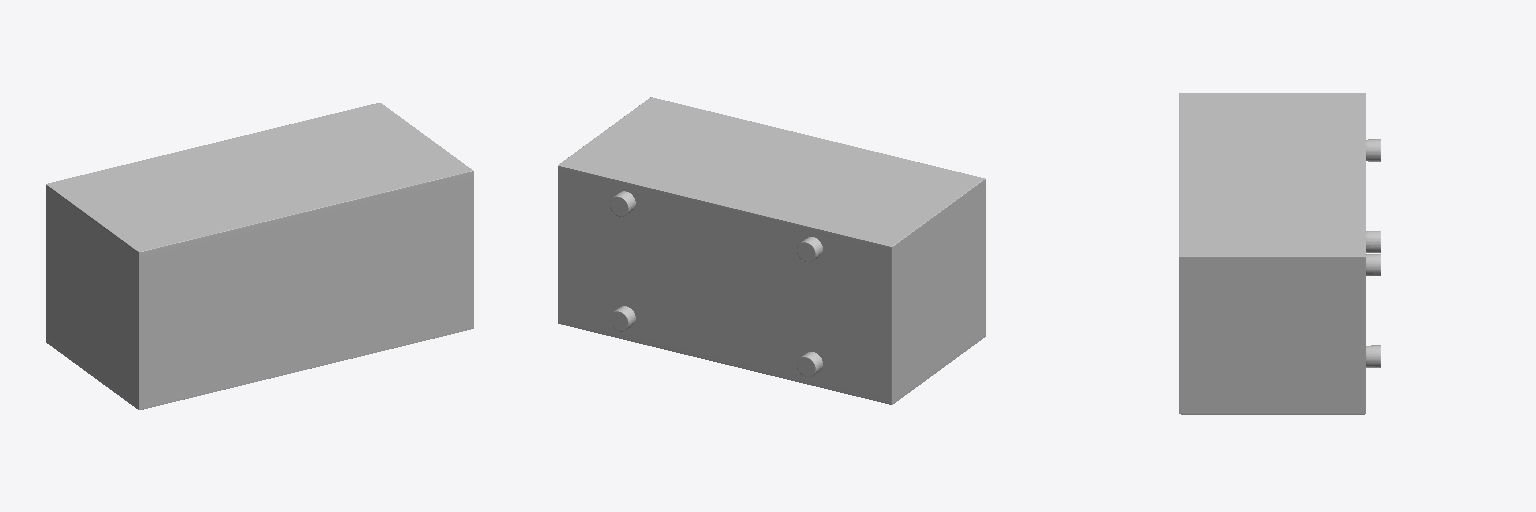
The model's file is radioFull.obj.
3 renders of one model, left to right at view 1: azimuth 30°, elevation 25°; view 2: azimuth 150°, elevation 25°; view 3: azimuth 270°, elevation 25°, orthographic.
Bounding box in the file's own units: 9.55 × 4.44 × 4.99.